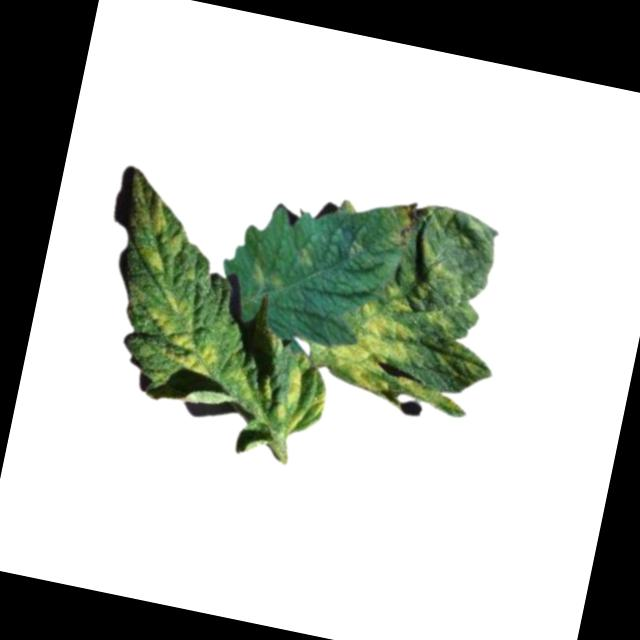Leaf_Mold: (304, 271, 425, 400), (135, 307, 224, 380), (272, 360, 332, 437), (138, 200, 189, 277), (246, 255, 285, 292)
